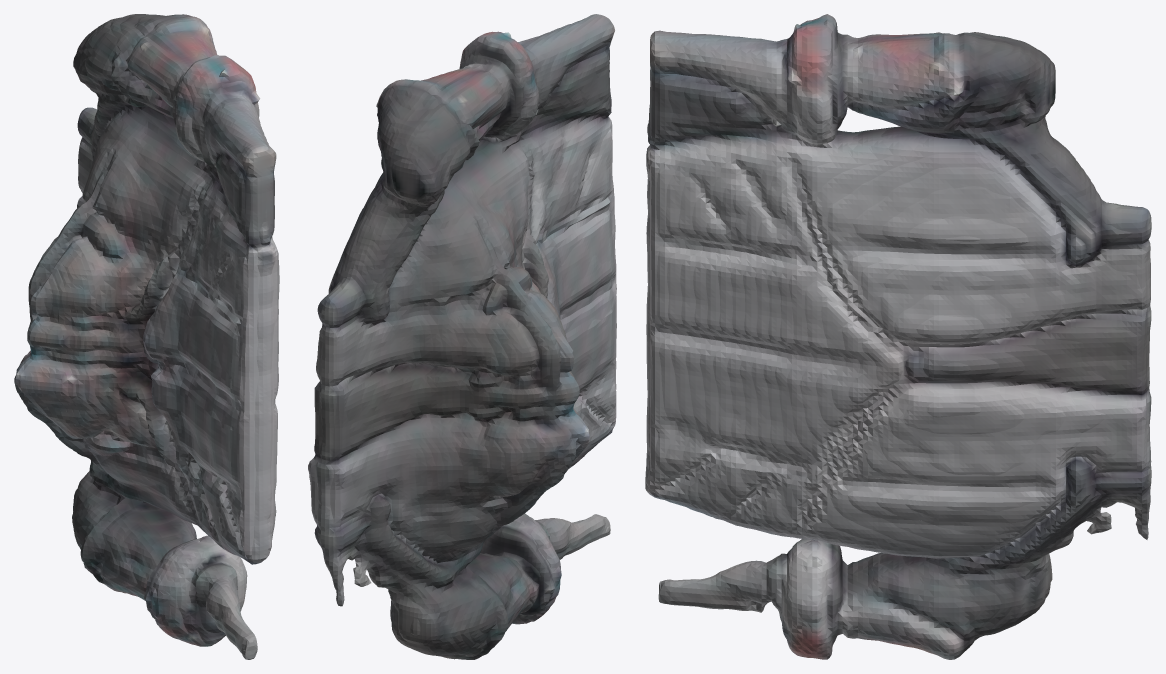
3 renders of one model, left to right at view 1: azimuth 30°, elevation 25°; view 2: azimuth 150°, elevation 25°; view 3: azimuth 270°, elevation 25°, orthographic. The views are drawn at different scales.
Parts seen in each view (by area): view 1: world; view 2: world; view 3: world.
Boxes of the visible parts, x1,y1,x2,y2 form: world: (14,14,279,659); world: (308,14,616,659); world: (645,14,1151,659).
Size of the model in its own units: 0.3565 by 0.956 by 0.6806.
